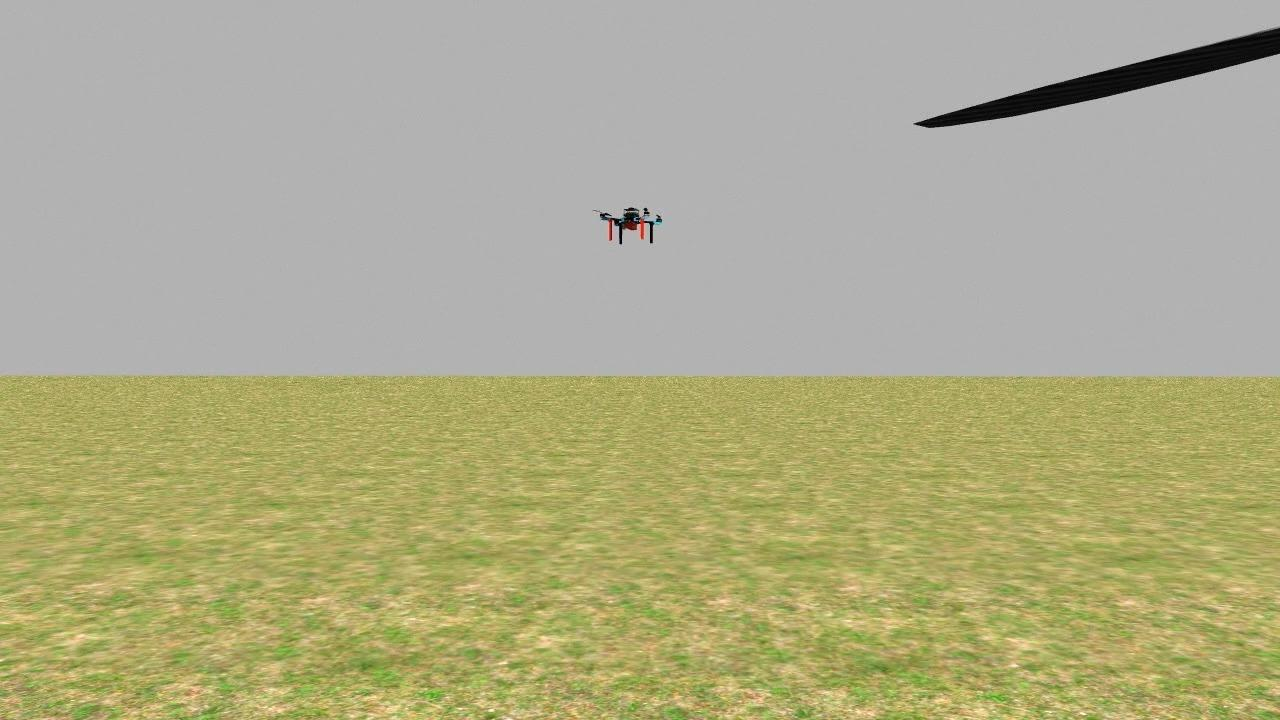UAV: (593, 194, 677, 244)
